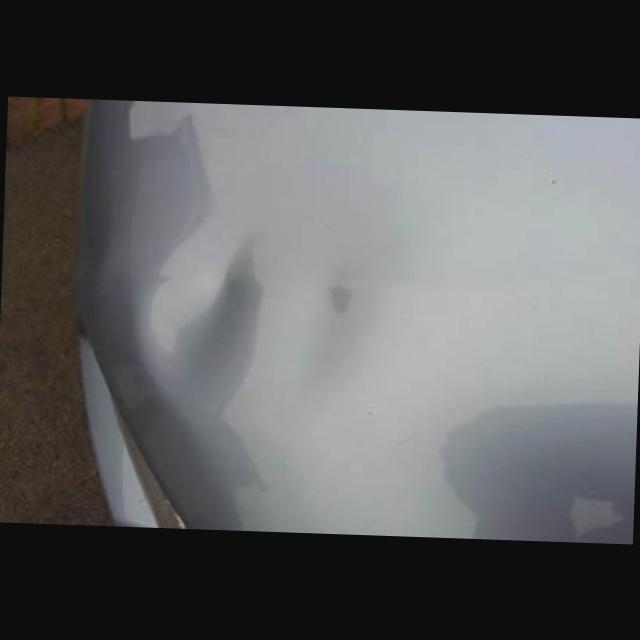dent: (136, 228, 262, 416), (276, 260, 384, 387)
